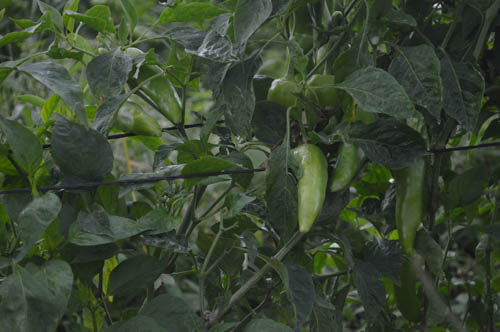ChiliPepper: (387, 152, 434, 262), (289, 138, 329, 242), (128, 58, 185, 123), (331, 134, 369, 195), (111, 98, 162, 141), (267, 72, 312, 117), (305, 68, 343, 103)
